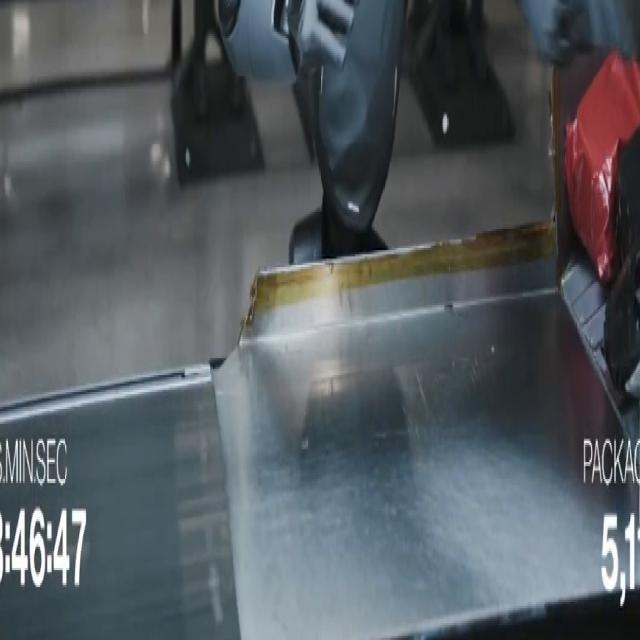package: (564, 53, 639, 283), (615, 130, 639, 262)
